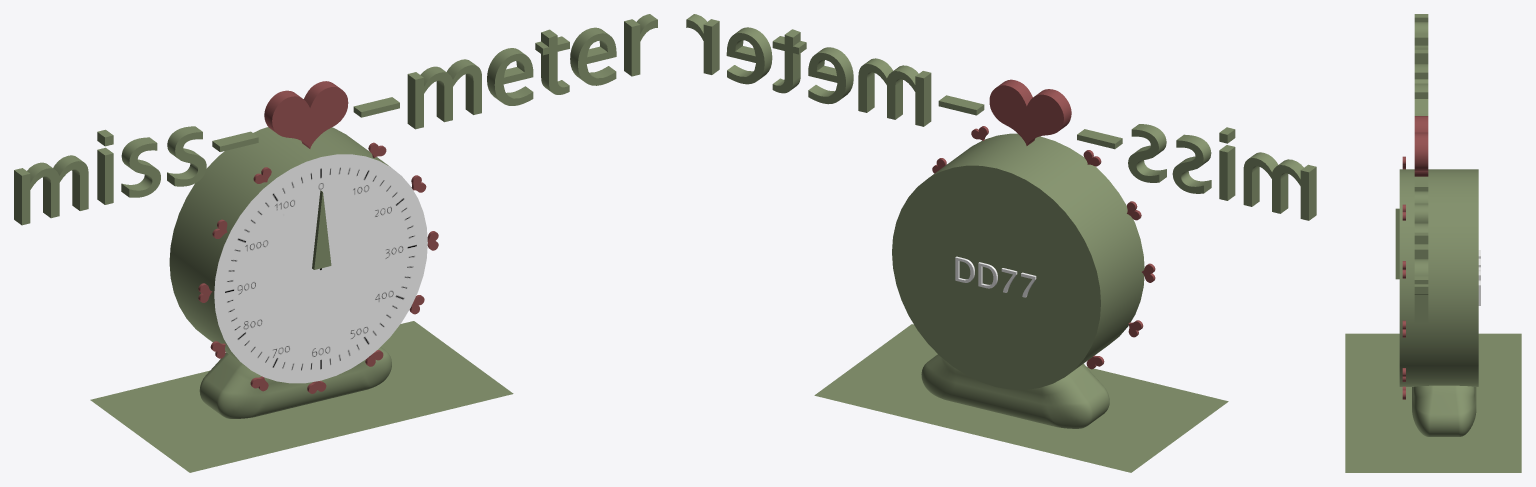
File: missometer.glb
3 views of the same model, side by side, from view 1: azimuth 30°, elevation 25°; view 2: azimuth 150°, elevation 25°; view 3: azimuth 270°, elevation 25° (orthographic). The views are drawn at different scales.
Parts seen in each view (by area): view 1: meter_face, missometer_texr, ground, meter_body, meter_base, needle; view 2: meter_body, missometer_texr, ground, meter_base, dd77; view 3: ground, meter_body, missometer_texr, meter_base, needle.
Boxes of the visible parts, box(x1,y1,x2,y2) form: meter_face: box(214, 154, 427, 383); missometer_texr: box(14, 14, 657, 225); ground: box(90, 321, 513, 472); meter_body: box(169, 127, 389, 369); meter_base: box(199, 347, 391, 418); needle: box(312, 190, 331, 269); meter_body: box(892, 133, 1144, 389); missometer_texr: box(686, 14, 1316, 220); ground: box(814, 324, 1228, 472); meter_base: box(921, 354, 1109, 428); dd77: box(955, 256, 1036, 297); ground: box(1345, 333, 1521, 472); meter_body: box(1399, 169, 1478, 386); missometer_texr: box(1414, 14, 1428, 323); meter_base: box(1412, 385, 1476, 436); needle: box(1395, 208, 1399, 279).
Size of the model in its own units: 2.98 by 1.44 by 0.8096.
4 materials, 1 textured.
